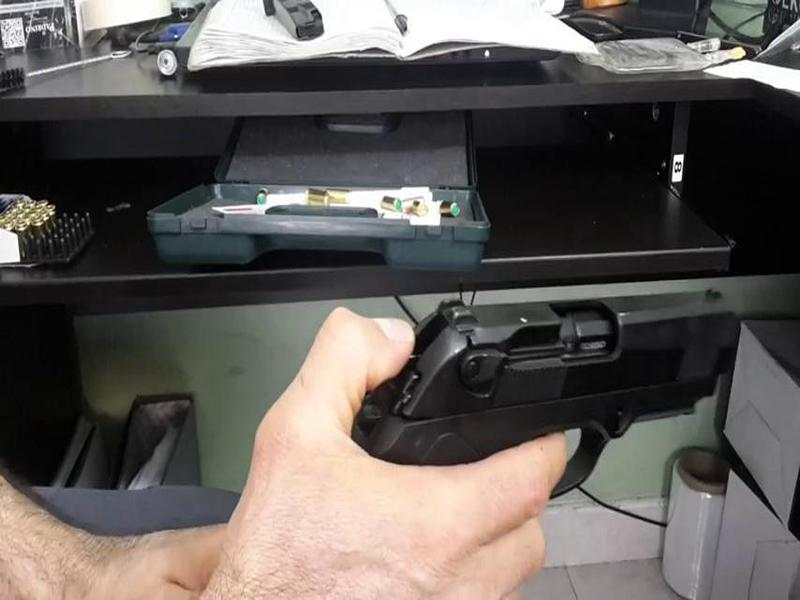Pistola: (369, 264, 745, 520)
